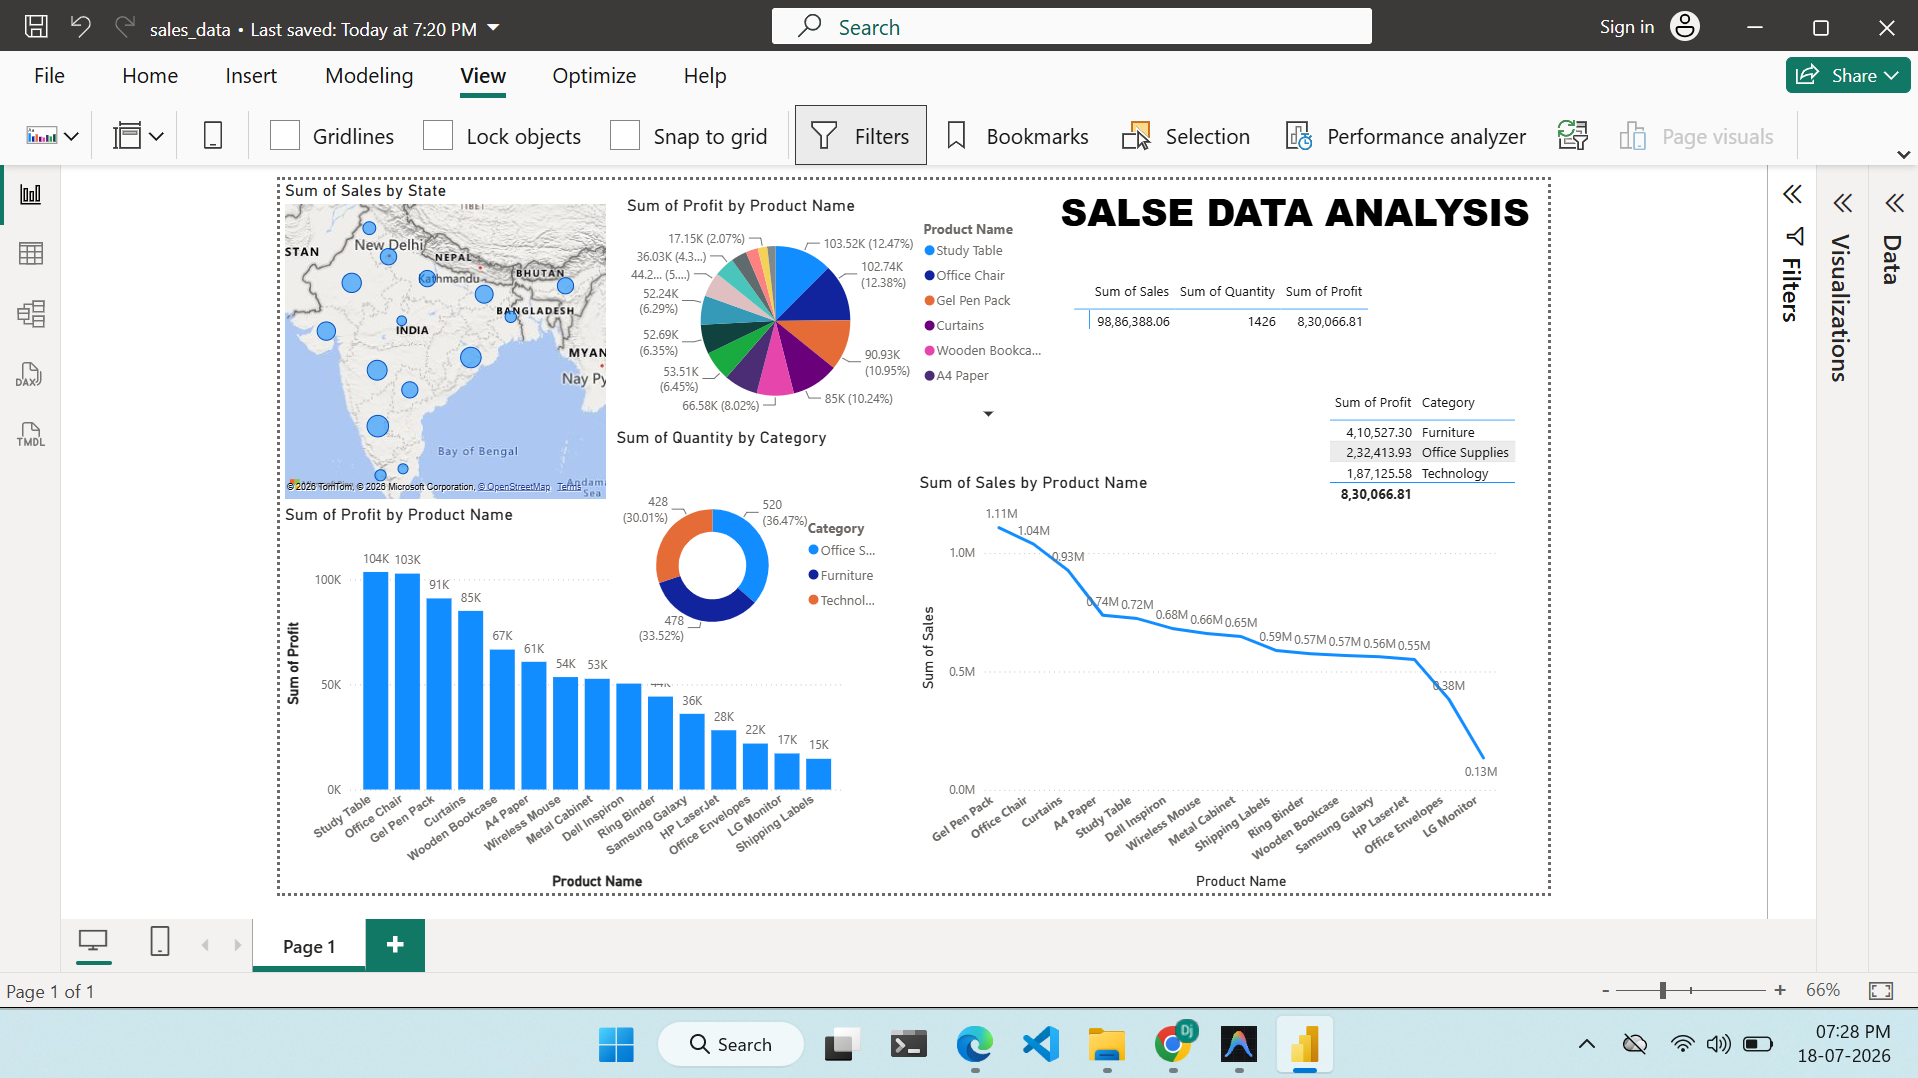

Layout of this report page (visuals, bound fields, positions):
{"tool":"powerbi","page":{"name":"Page 1","canvas":[1280,720],"ordinal":0},"visuals":[{"type":"columnChart","fields":{"Category":["sales_data analyzed_data_table.Product Name"],"Y":["Sum(sales_data analyzed_data_table.Profit)"]},"box":[0,326.9,574.5,393.1],"z":0},{"type":"map","fields":{"Category":["sales_data analyzed_data_table.State"],"Size":["Sum(sales_data analyzed_data_table.Sales)"]},"box":[0,0,334.5,326.9],"z":1000},{"type":"textbox","box":[771,0,508.4,64.3],"z":2000},{"type":"textbox","box":[334,0,240,327],"z":3000},{"type":"pieChart","fields":{"Category":["sales_data analyzed_data_table.Product Name"],"Y":["Sum(sales_data analyzed_data_table.Profit)"]},"box":[345.8,15.1,438.4,234.3],"z":4000},{"type":"donutChart","fields":{"Category":["sales_data analyzed_data_table.Category"],"Y":["Sum(sales_data analyzed_data_table.Quantity)"]},"box":[334.5,249.5,287.2,258.9],"z":5000},{"type":"pivotTable","fields":{"Values":["Sum(sales_data analyzed_data_table.Sales)","Sum(sales_data analyzed_data_table.Quantity)","Sum(sales_data analyzed_data_table.Profit)"]},"box":[797,97,389.4,112.1],"z":6000},{"type":"lineChart","fields":{"Category":["sales_data analyzed_data_table.Product Name"],"Y":["Sum(sales_data analyzed_data_table.Sales)"]},"box":[640.6,294.8,593.4,425.2],"z":7000},{"type":"tableEx","fields":{"Values":["Sum(sales_data analyzed_data_table.Profit)","sales_data analyzed_data_table.Category"]},"box":[1054.5,209.8,209.8,136.1],"z":8000}]}

Visuals, with their boxes on the page's 1280x720 design canvas (x1, y1, x2, y2). These are canvas units, not pixel positions in the 1918x1078 screenshot, which may show the page scaled, cropped or inside an application window:
columnChart - sales_data analyzed_data_table.Product Name x Sum(sales_data analyzed_data_table.Profit): <box>0,327,574,720</box>
map - sales_data analyzed_data_table.State x Sum(sales_data analyzed_data_table.Sales): <box>0,0,334,327</box>
textbox: <box>771,0,1279,64</box>
textbox: <box>334,0,574,327</box>
pieChart - sales_data analyzed_data_table.Product Name x Sum(sales_data analyzed_data_table.Profit): <box>346,15,784,249</box>
donutChart - sales_data analyzed_data_table.Category x Sum(sales_data analyzed_data_table.Quantity): <box>334,250,622,508</box>
pivotTable - Sum(sales_data analyzed_data_table.Sales) x Sum(sales_data analyzed_data_table.Quantity): <box>797,97,1186,209</box>
lineChart - sales_data analyzed_data_table.Product Name x Sum(sales_data analyzed_data_table.Sales): <box>641,295,1234,720</box>
tableEx - Sum(sales_data analyzed_data_table.Profit) x sales_data analyzed_data_table.Category: <box>1054,210,1264,346</box>
